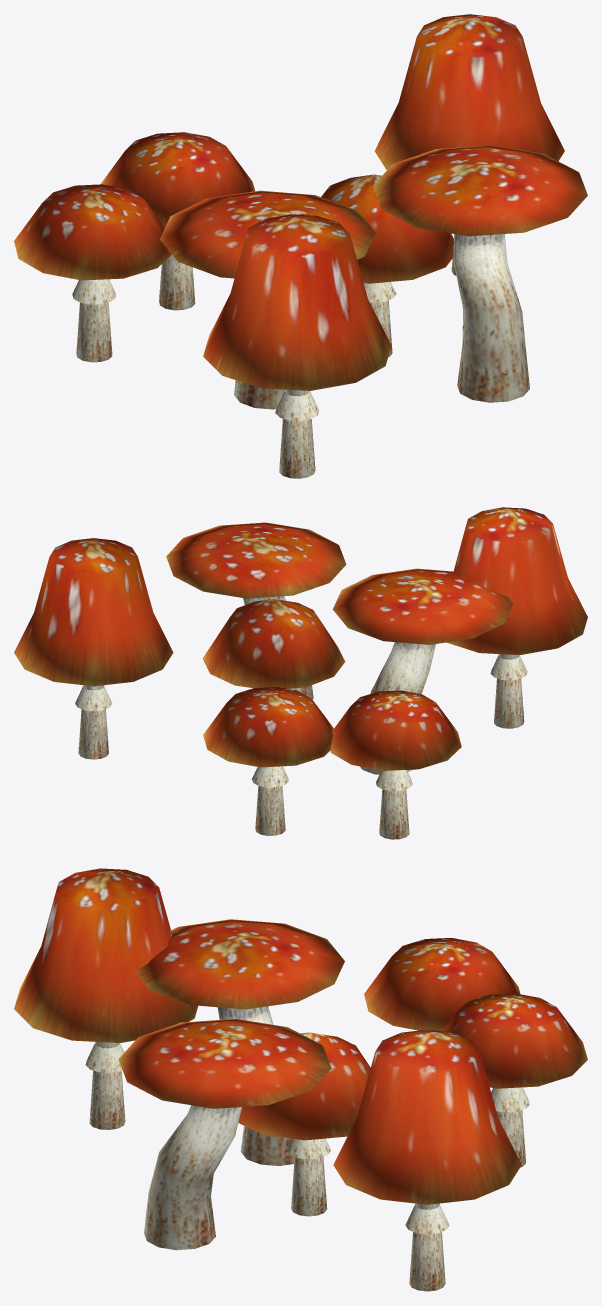
Rendered from Shroom1-3.gltf.
The picture shows the model from 3 angles, top to bottom: view 1: azimuth 30°, elevation 25°; view 2: azimuth 150°, elevation 25°; view 3: azimuth 270°, elevation 25°; orthographic projection. The views are drawn at different scales.
Parts seen in each view (by area): view 1: Shroom1-3; view 2: Shroom1-3; view 3: Shroom1-3.
Part boxes in pixels (left/top/right/bottom): Shroom1-3: left=14, top=14, right=587, bottom=478; Shroom1-3: left=14, top=507, right=587, bottom=839; Shroom1-3: left=14, top=868, right=587, bottom=1291.
Size of the model in its own units: 4.77 by 2.21 by 4.61.
1 material, 1 textured.
